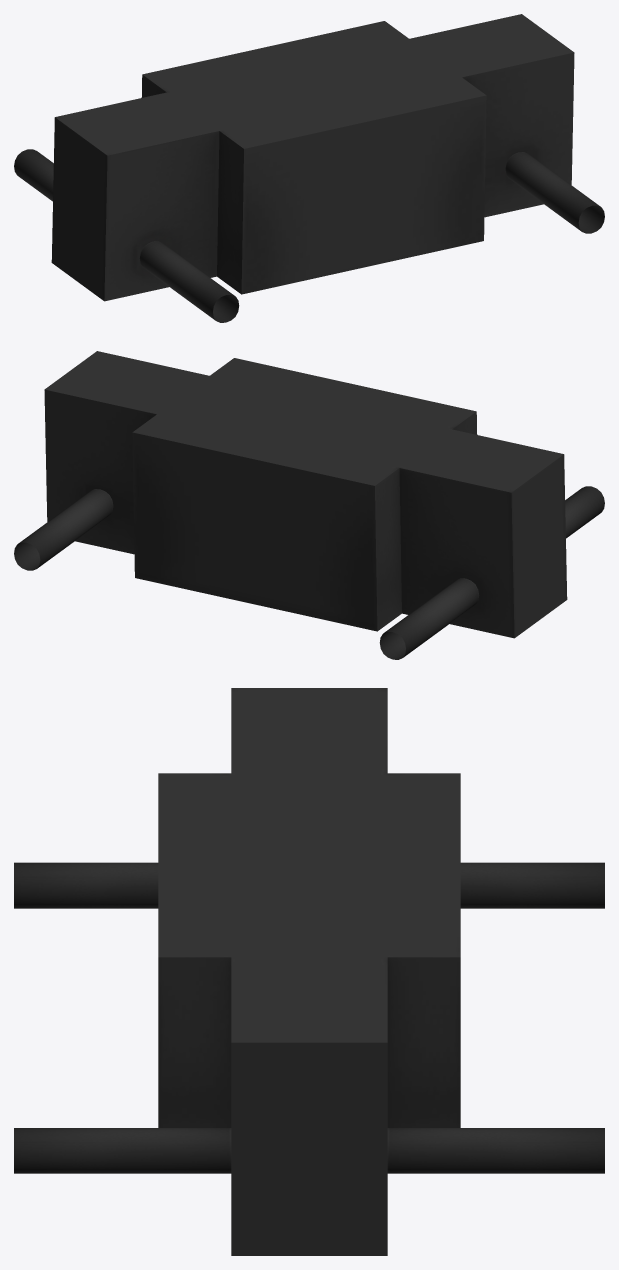
File: chassis.dae
3 views of the same model, one above another, from view 1: azimuth 30°, elevation 25°; view 2: azimuth 150°, elevation 25°; view 3: azimuth 270°, elevation 25° (orthographic). The views are drawn at different scales.
Parts seen in each view (by area): view 1: node; view 2: node; view 3: node.
Boxes of the visible parts, box(x1,y1,x2,y2) form: node: box(14, 14, 604, 322); node: box(14, 351, 604, 659); node: box(14, 688, 604, 1255).
Size of the model in its own units: 21.28 by 15.6 by 6.74.
1 material, 1 textured.
